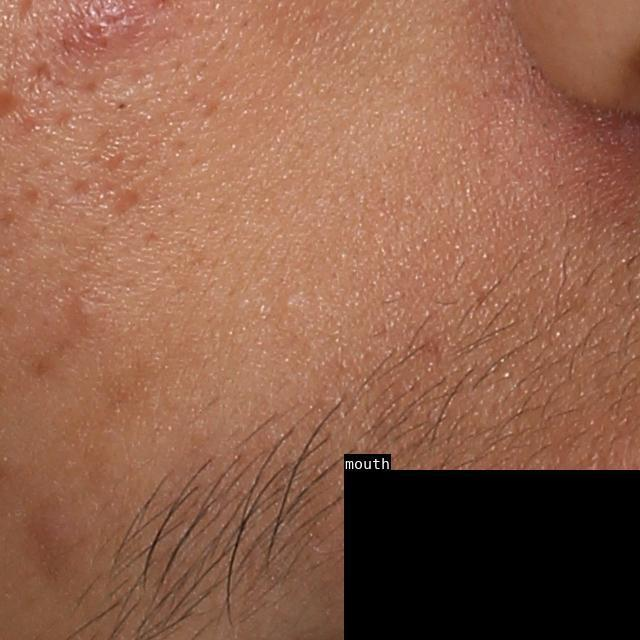atrophic_scar: (99, 66, 155, 108), (89, 177, 142, 216)
comedo: (282, 291, 303, 315)
